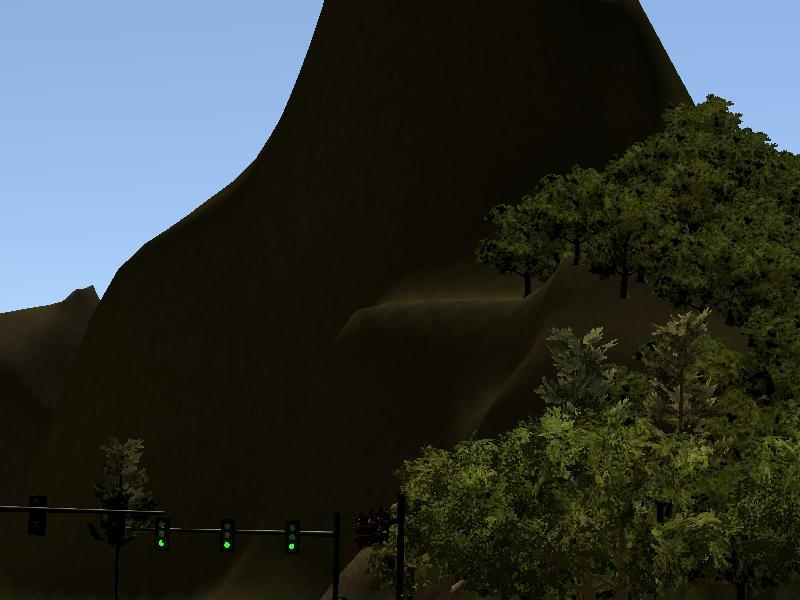Green: (217, 515, 235, 558), (155, 512, 169, 554), (284, 516, 298, 556)
